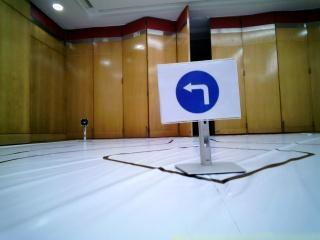left: (160, 66, 234, 120)
